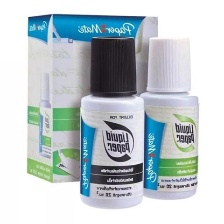book: (25, 13, 162, 184)
correction_fluid: (77, 34, 146, 211), (135, 35, 202, 201)
